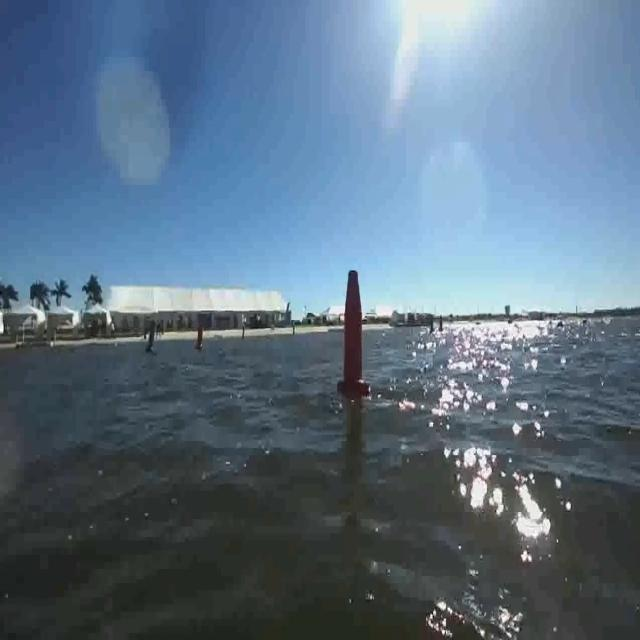red-column-buoy: (340, 267, 369, 398), (196, 324, 207, 353), (436, 316, 444, 337)
